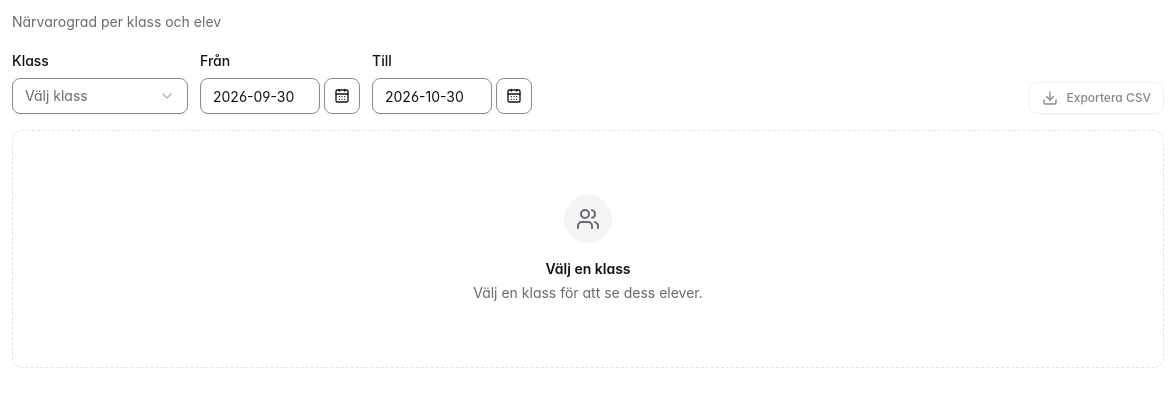
Test: Rapporter › Närvaro › puts the class's figures in a KPI strip above a named table
What coordinates should you click on to do the following:
click the dropdown labelled "klass"
I would click on:
 (100, 96)
Its box is [12,78,188,114].
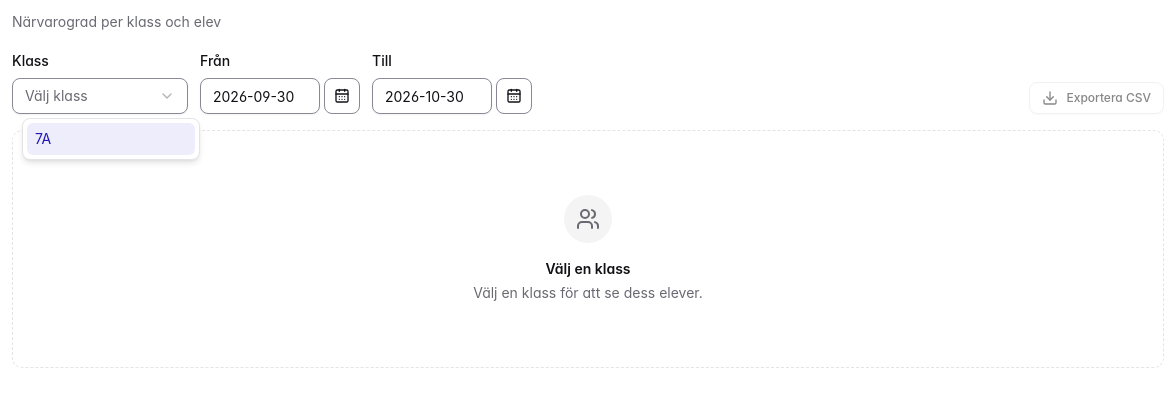
What coordinates should you click on to do the following:
click the option "7A"
I would click on:
 (111, 139)
Its box is [27,123,195,155].
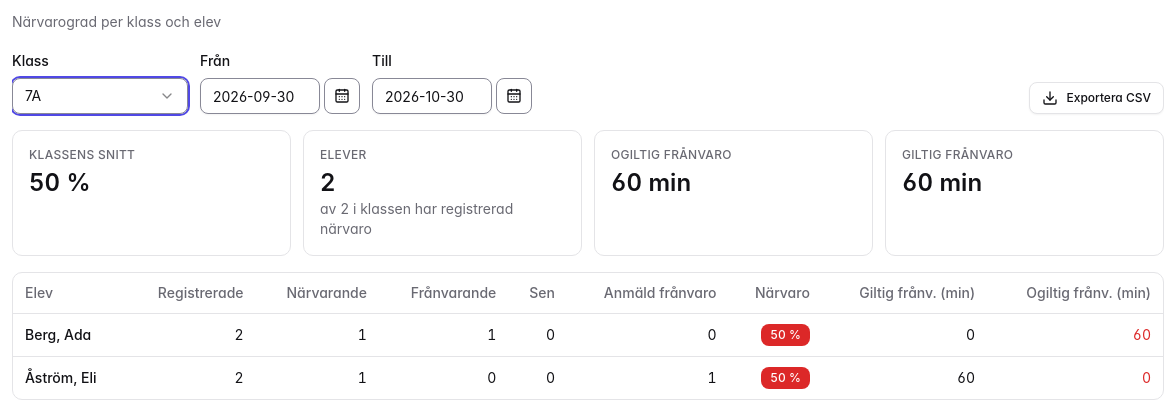
Expected: the text "50 %" in the row of "Berg, Ada" is shown, [770,326,801,342]
Expected: the button "Exportera CSV" is enabled, [1030,82,1164,114]
